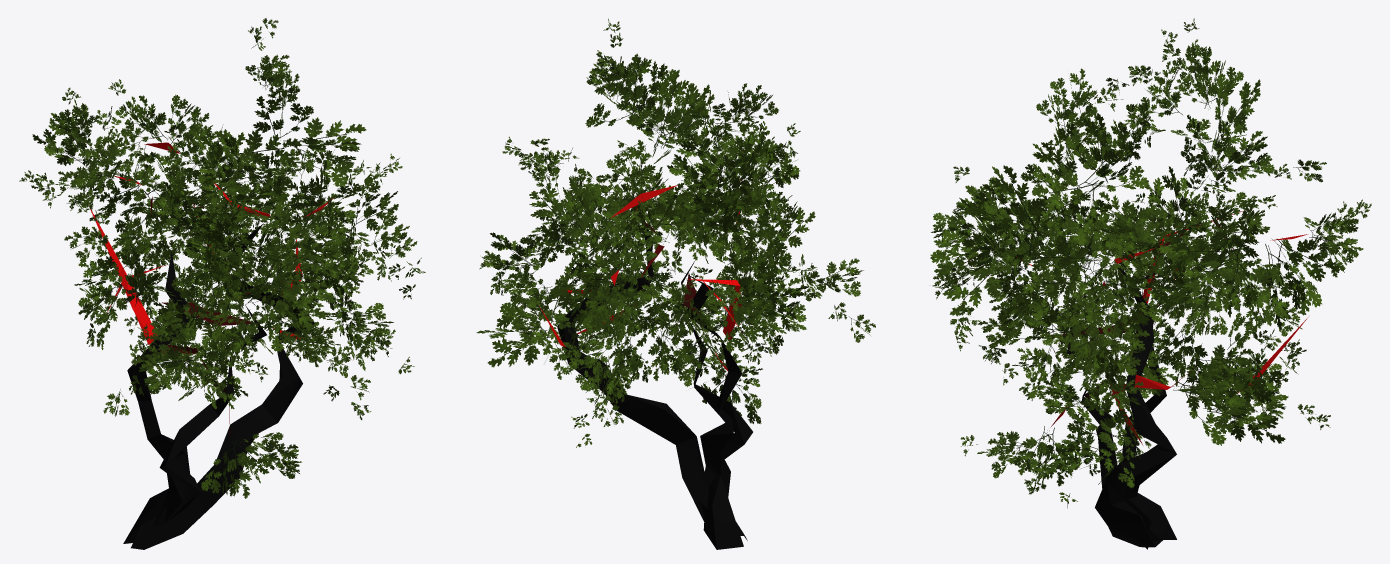
File: oak3 lod2.FBX
3 views of the same model, side by side, from view 1: azimuth 30°, elevation 25°; view 2: azimuth 150°, elevation 25°; view 3: azimuth 270°, elevation 25° (orthographic). The views are drawn at different scales.
Visible parts, largest first — view 1: oak 3_LOD2; view 2: oak 3_LOD2; view 3: oak 3_LOD2.
Part boxes in pixels (x1,y1,x2,y2): oak 3_LOD2: (19,18,425,549); oak 3_LOD2: (476,18,875,549); oak 3_LOD2: (930,18,1371,549).
Size of the model in its own units: 97746 by 134385 by 104393.
